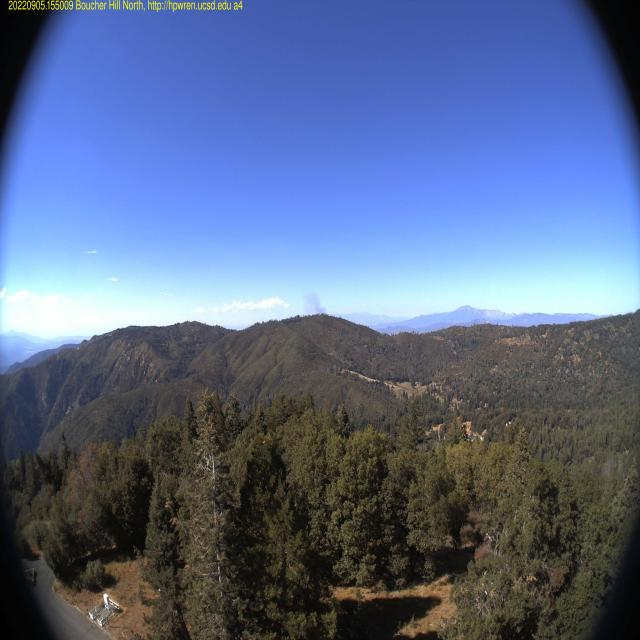smoke: (300, 292, 328, 317)
